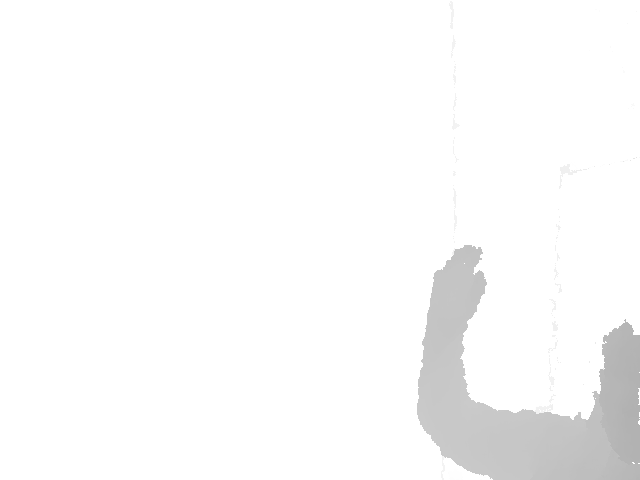hand: (425, 242, 488, 324)
head: (598, 321, 640, 465)
person: (415, 243, 640, 480)
